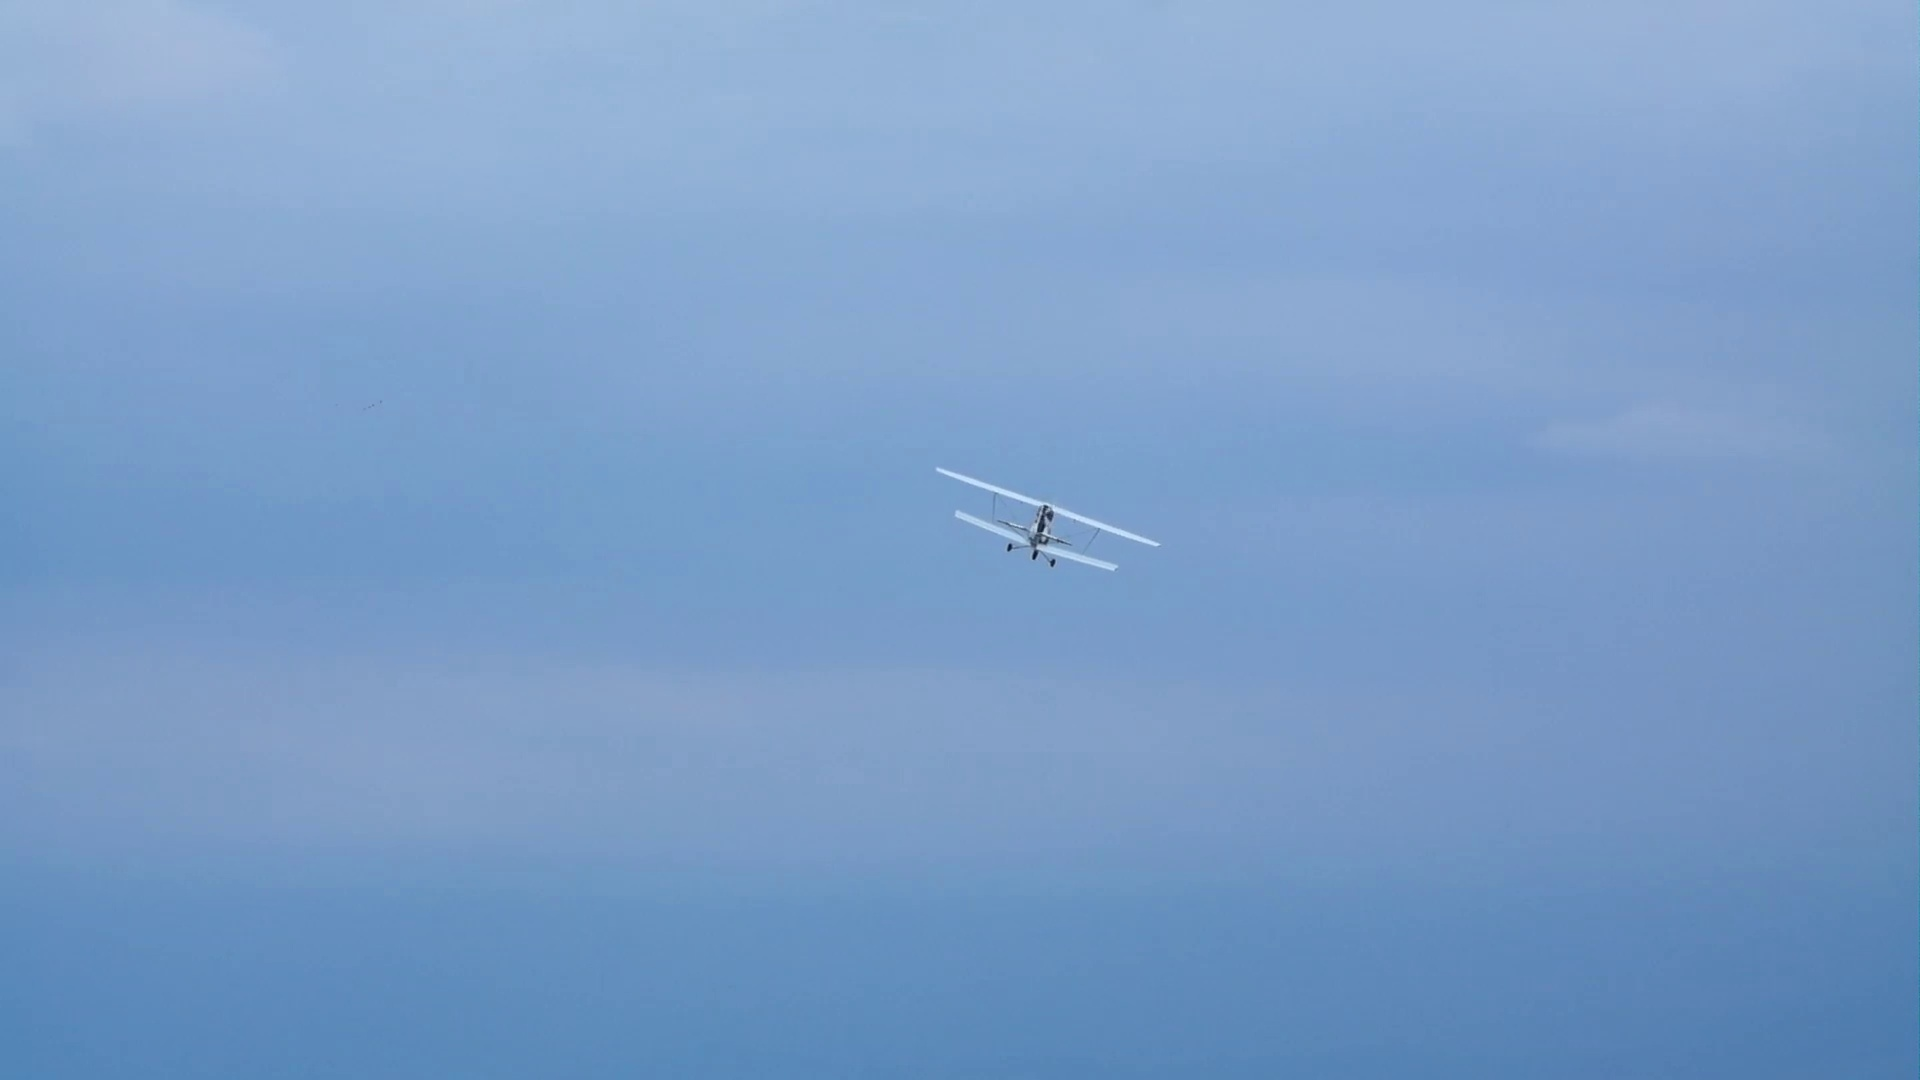plane: (932, 465, 1160, 574)
